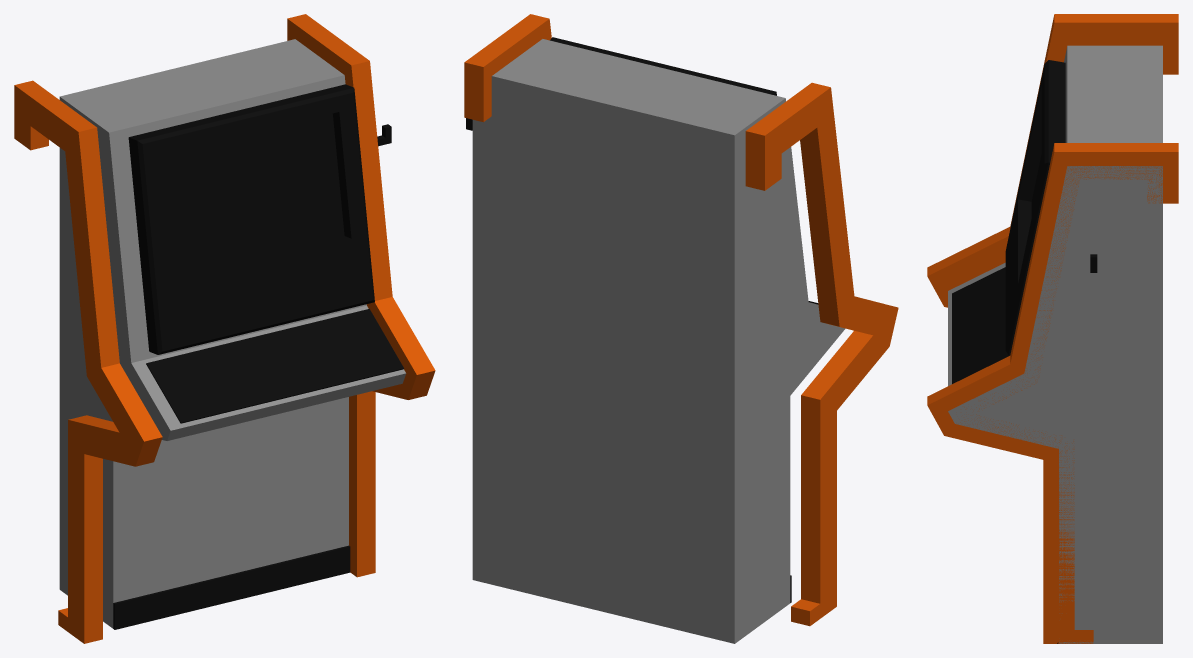
The model's file is sonar_console_body.glb.
The picture shows the model from 3 angles, left to right: view 1: azimuth 30°, elevation 25°; view 2: azimuth 150°, elevation 25°; view 3: azimuth 270°, elevation 25°; orthographic projection. The views are drawn at different scales.
Visible parts, largest first — view 1: SonarConsoleBody; view 2: SonarConsoleBody; view 3: SonarConsoleBody.
Boxes of the visible parts, x1,y1,x2,y2 form: SonarConsoleBody: (14, 14, 435, 643); SonarConsoleBody: (464, 14, 898, 643); SonarConsoleBody: (927, 14, 1178, 643).
Bounding box in the file's own units: 1.07 × 1.57 × 0.7247.
